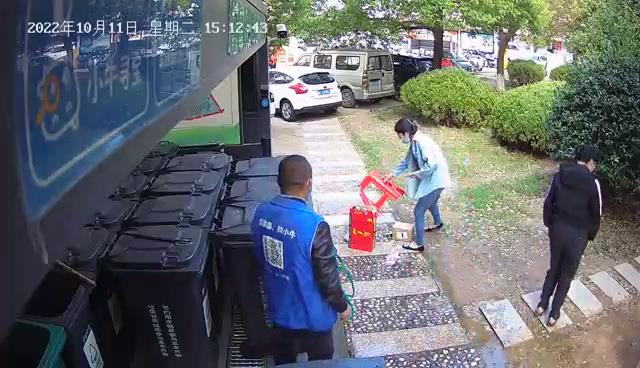person: (533, 143, 604, 327)
suliaozhipin: (357, 169, 407, 211)
worker: (250, 153, 351, 364), (382, 114, 447, 251)
zhizhipin: (347, 203, 379, 252), (391, 219, 415, 242)
